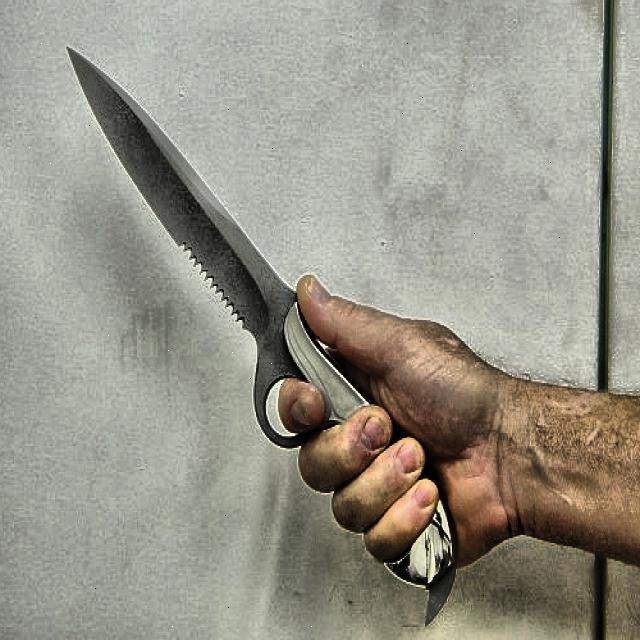knife: (67, 49, 457, 633)
